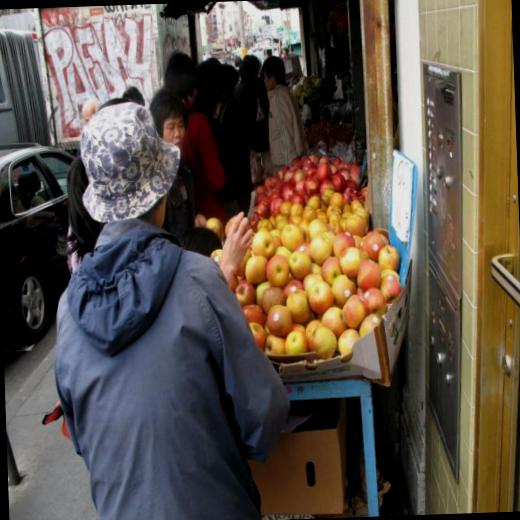Apple: (206, 150, 406, 365), (266, 302, 292, 335)
